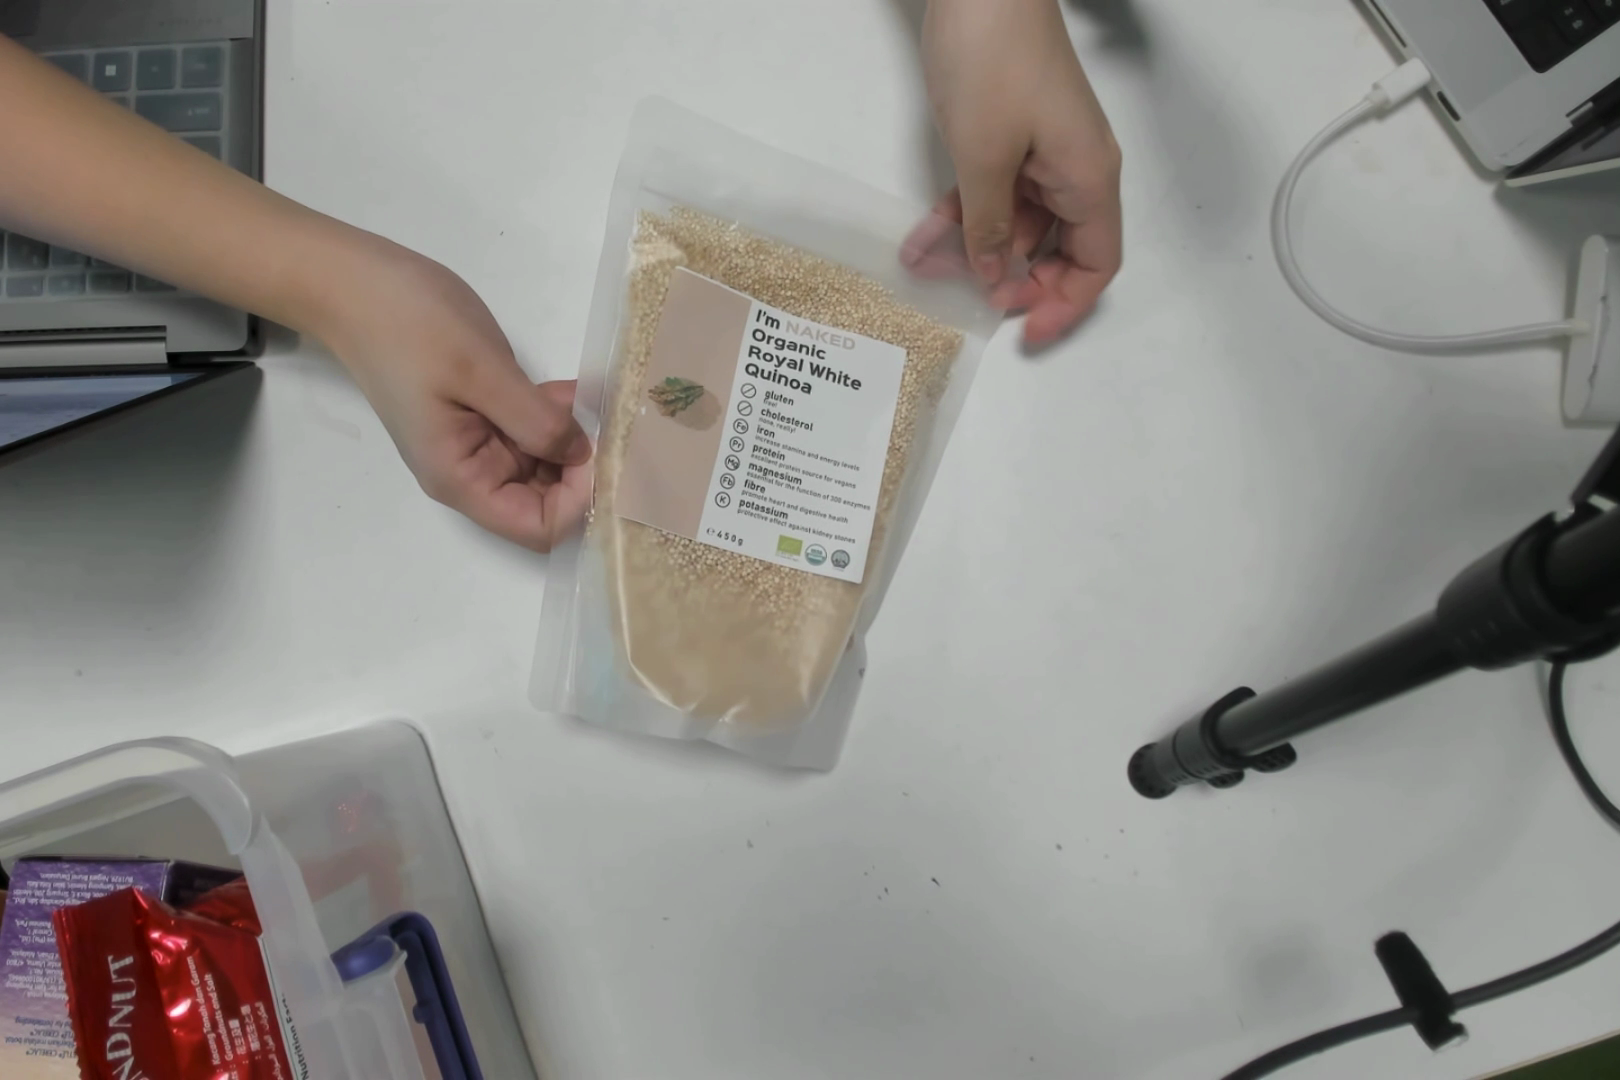Rice(brown-others)_400-499g_Halal_NonHealthy: (604, 209, 934, 774)
